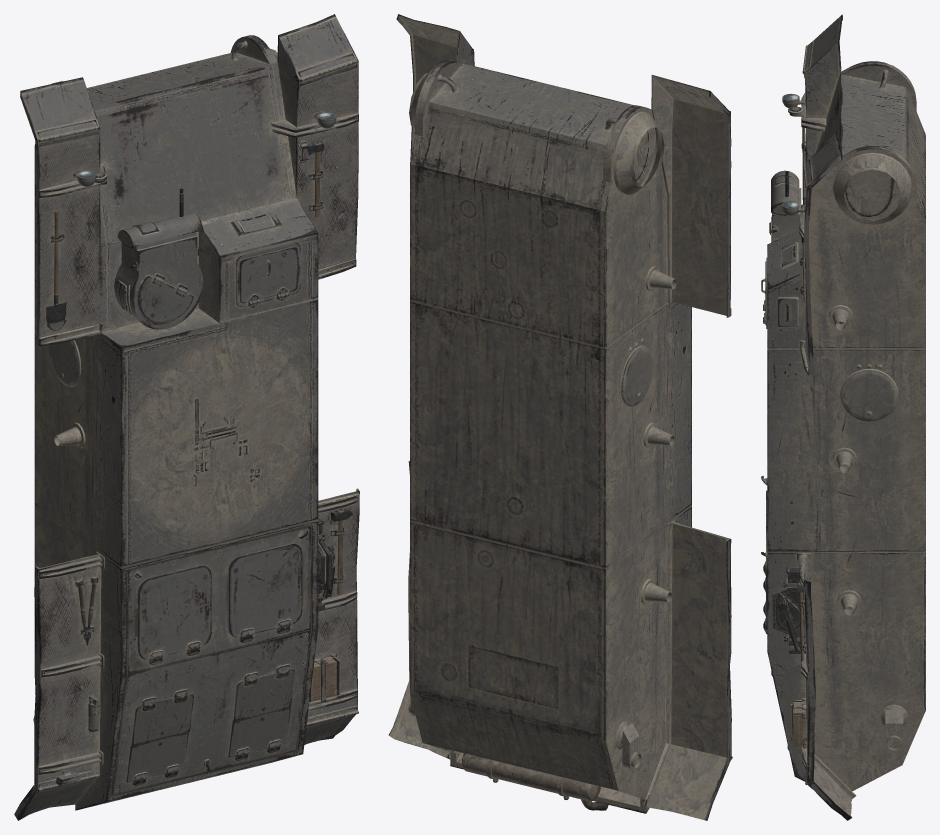
Rendered from Hull.glb.
3 views of the same model, side by side, from view 1: azimuth 30°, elevation 25°; view 2: azimuth 150°, elevation 25°; view 3: azimuth 270°, elevation 25° (orthographic). The views are drawn at different scales.
Parts seen in each view (by area): view 1: set_0_group_0; view 2: set_0_group_0; view 3: set_0_group_0.
Boxes of the visible parts, x1,y1,x2,y2 form: set_0_group_0: (14, 14, 359, 820); set_0_group_0: (388, 14, 732, 820); set_0_group_0: (761, 14, 925, 820).
Bounding box in the file's own units: 3.22 × 7.04 × 1.56.
1 material, 1 textured.
